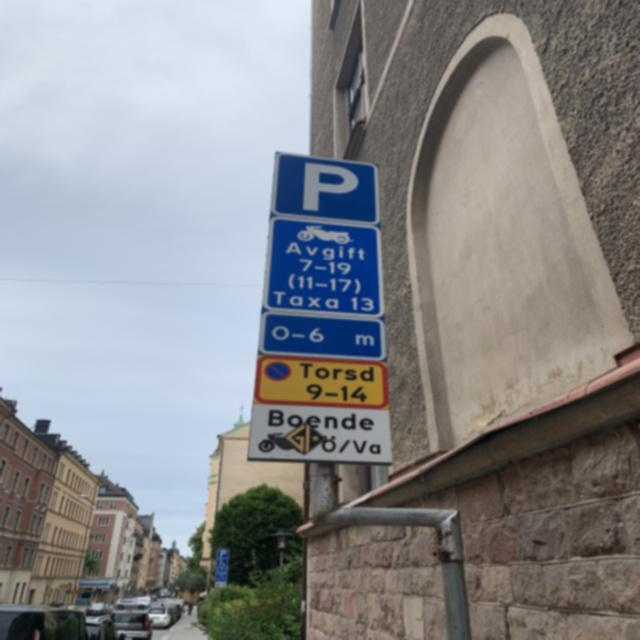P-skylt: (268, 150, 387, 227)
